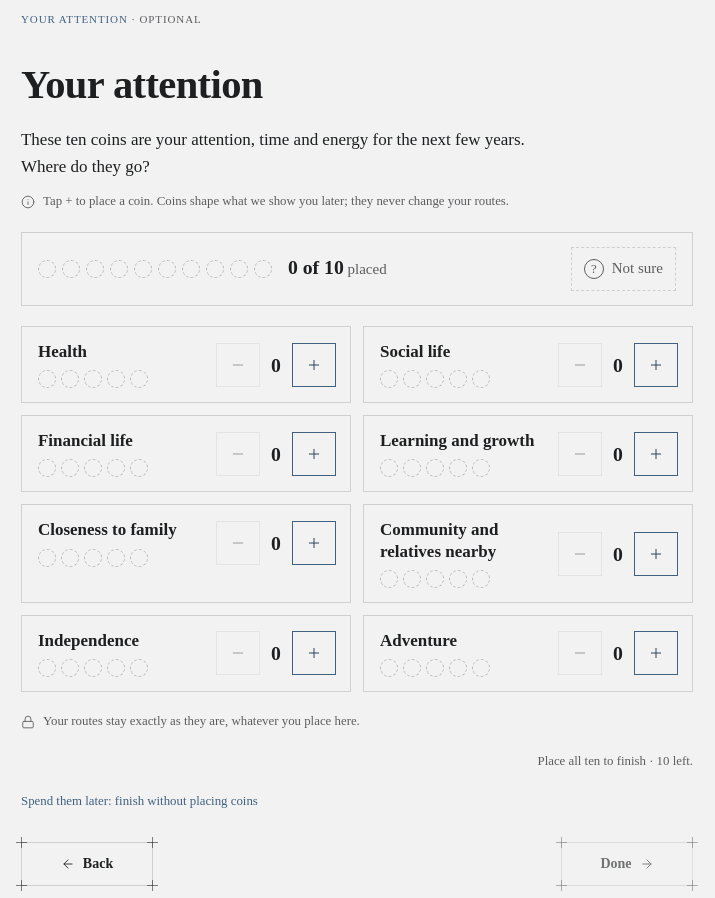
Scenario: places and takes coins on a pile, and says what the pile now shows
The width and height of the screenshot is (715, 898).
What coordinates should you click on to do the following:
click the button named "Place a coin on Closeness to family"
I would click on:
 (314, 543)
Its box is [292, 521, 336, 565].
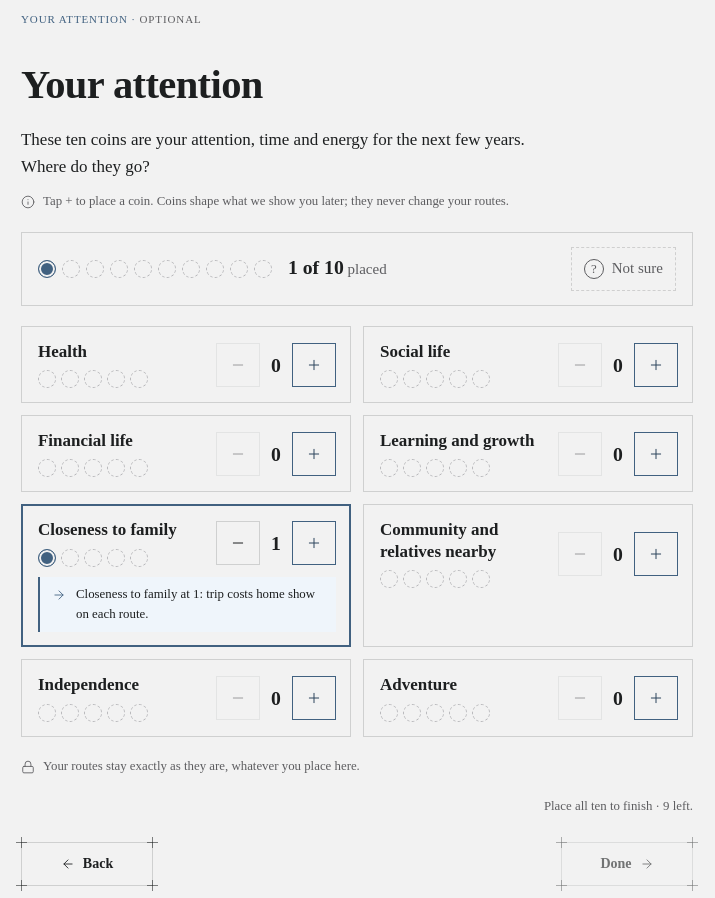
What coordinates should you click on to do the following:
click the button named "Place a coin on Closeness to family"
I would click on:
 (314, 543)
Its box is [292, 521, 336, 565].
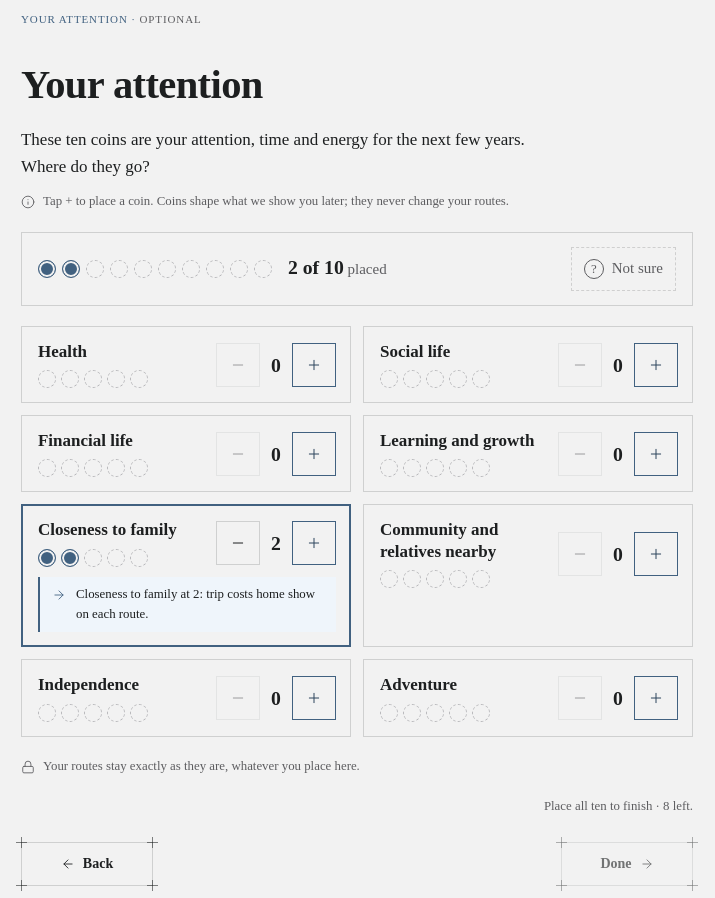
What coordinates should you click on to do the following:
click the button named "Place a coin on Closeness to family"
I would click on:
 (314, 543)
Its box is [292, 521, 336, 565].
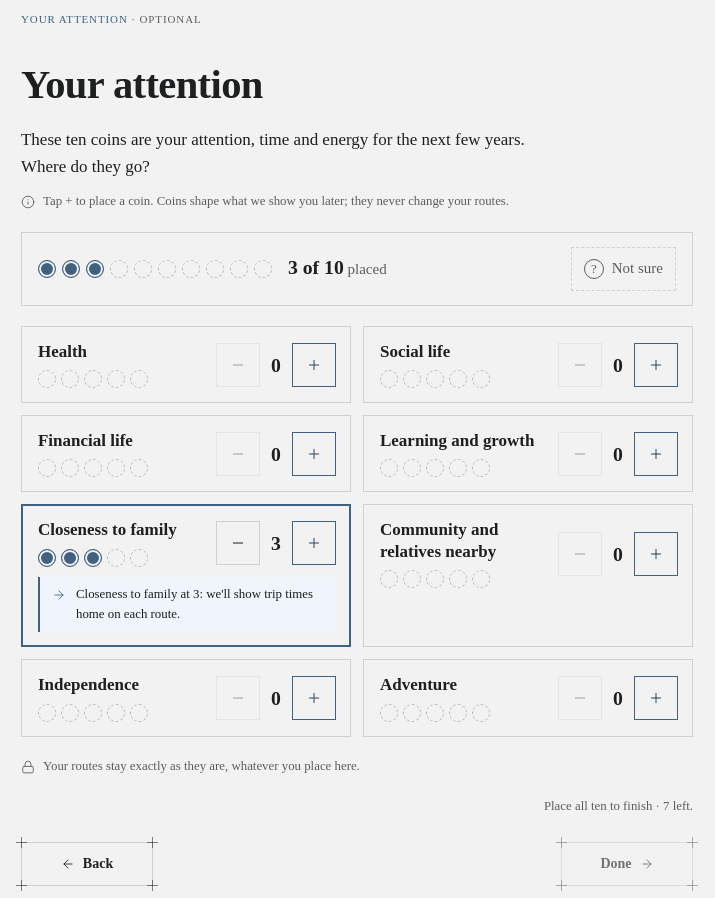
Check: the text "Closeness to family at 3: we'll show trip times home on each route." is shown, box [76, 585, 324, 624]
What coordinates should you click on to do the following:
click the button named "Take a coin from Closeness to family"
I would click on:
 (238, 543)
Its box is [216, 521, 260, 565].
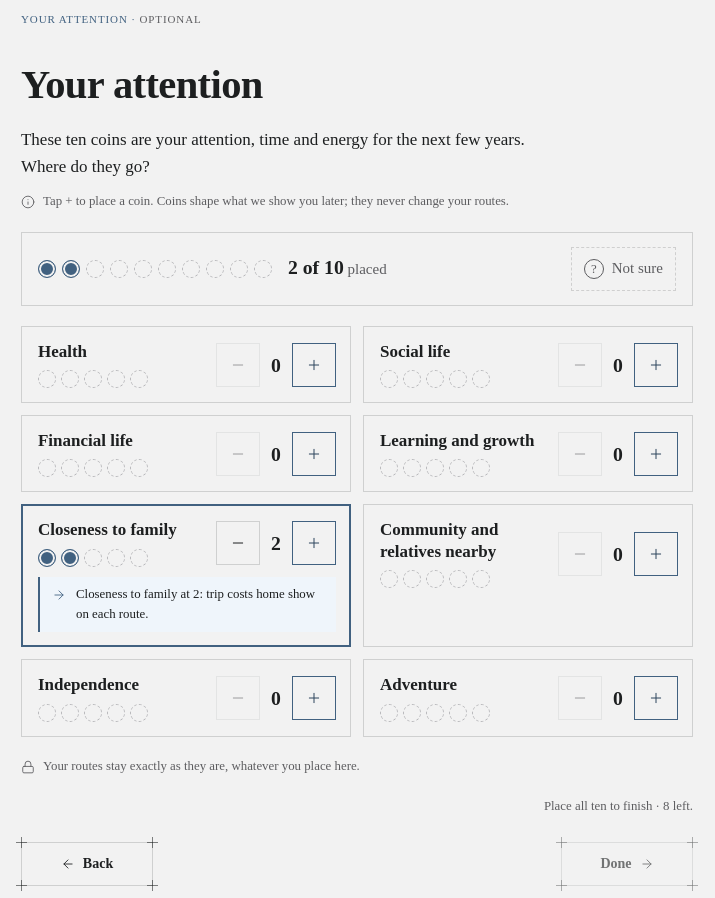
Check: the text "Closeness to family at 2: trip costs home show on each route." is shown, box [76, 585, 324, 624]
